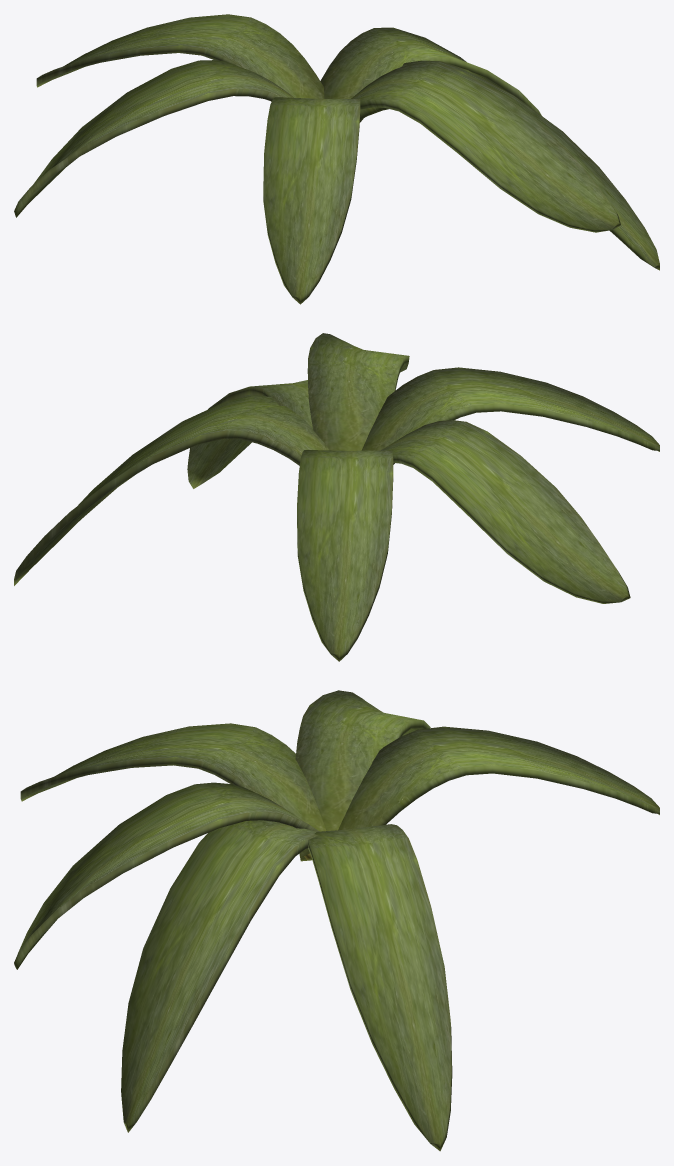
Rendered from calyx9_1002.dae.
The picture shows the model from 3 angles, top to bottom: view 1: azimuth 30°, elevation 25°; view 2: azimuth 150°, elevation 25°; view 3: azimuth 270°, elevation 25°; orthographic projection. The views are drawn at different scales.
Parts seen in each view (by area): view 1: calyx8_001, calyx6_001, calyx6_002, calyx8_002, calyx9, calyx9_001; view 2: calyx8_002, calyx6_002, calyx6_001, calyx9, calyx8_001, calyx9_001; view 3: calyx9, calyx9_001, calyx6_002, calyx8_001, calyx6_001, calyx8_002.
Boxes of the visible parts, x1,y1,x2,y2 form: calyx8_001: (351,62,620,232); calyx6_001: (263,97,360,304); calyx6_002: (36,14,324,101); calyx8_002: (14,60,293,217); calyx9: (320,27,541,122); calyx9_001: (360,60,659,270); calyx8_002: (381,420,630,603); calyx6_002: (297,450,393,661); calyx6_001: (361,367,659,464); calyx9: (14,395,328,585); calyx8_001: (307,333,409,450); calyx9_001: (187,380,312,488); calyx9: (299,824,452,1151); calyx9_001: (121,820,317,1132); calyx6_002: (338,726,659,830); calyx8_001: (14,782,319,969); calyx6_001: (20,723,326,859); calyx8_002: (295,690,430,830).
Size of the model in its own units: 0.1304 by 0.1157 by 0.0455.
6 materials, 6 textured.
